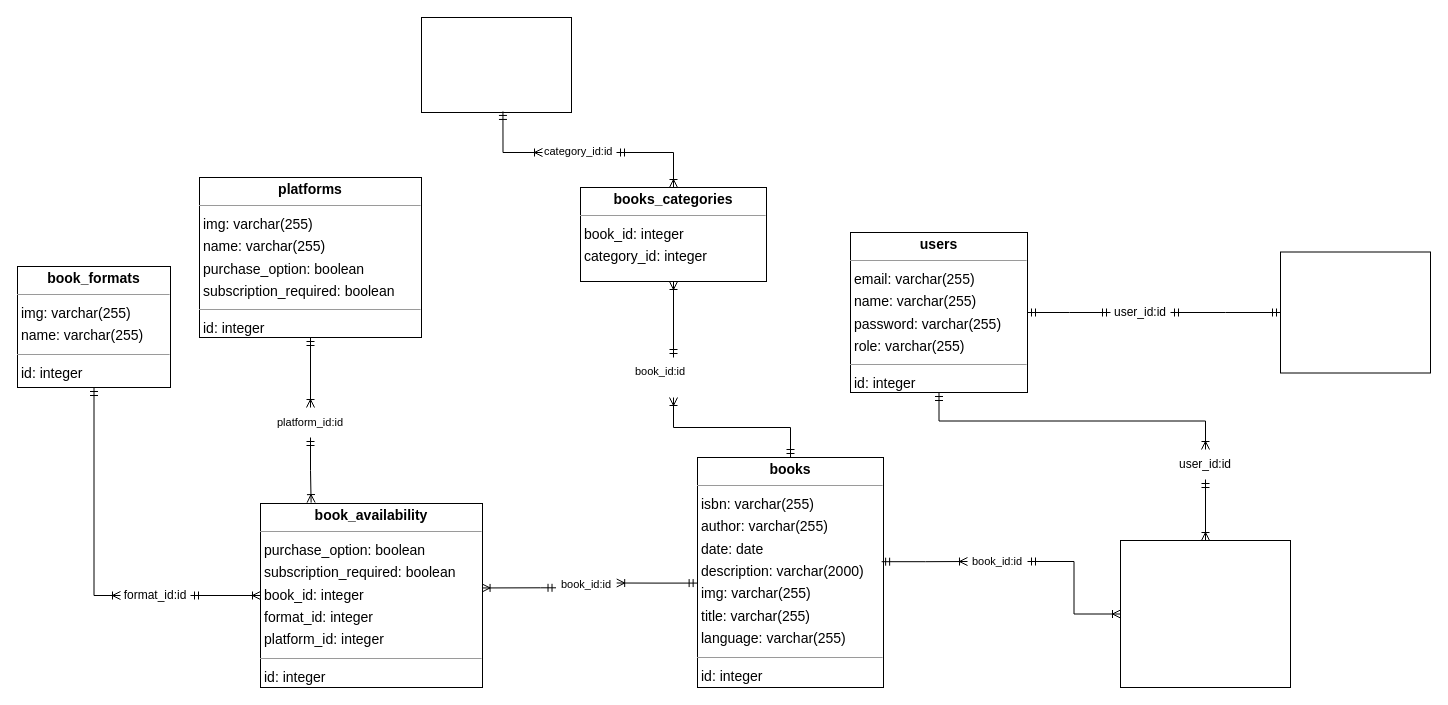
The diagram is 1448 pixels wide and 705 high, and some of its shapes have lost their labels. Here are the shapes that lost their labels. From the top down, the centre of each, then its label:
(x=496, y=64): categories name: varchar(255) id: integer
(x=1355, y=312): user_features phone: bigint user_id: integer id: integer
(x=1205, y=614): user_toread_list date_added: date book_id: integer user_id: integer id: integer
